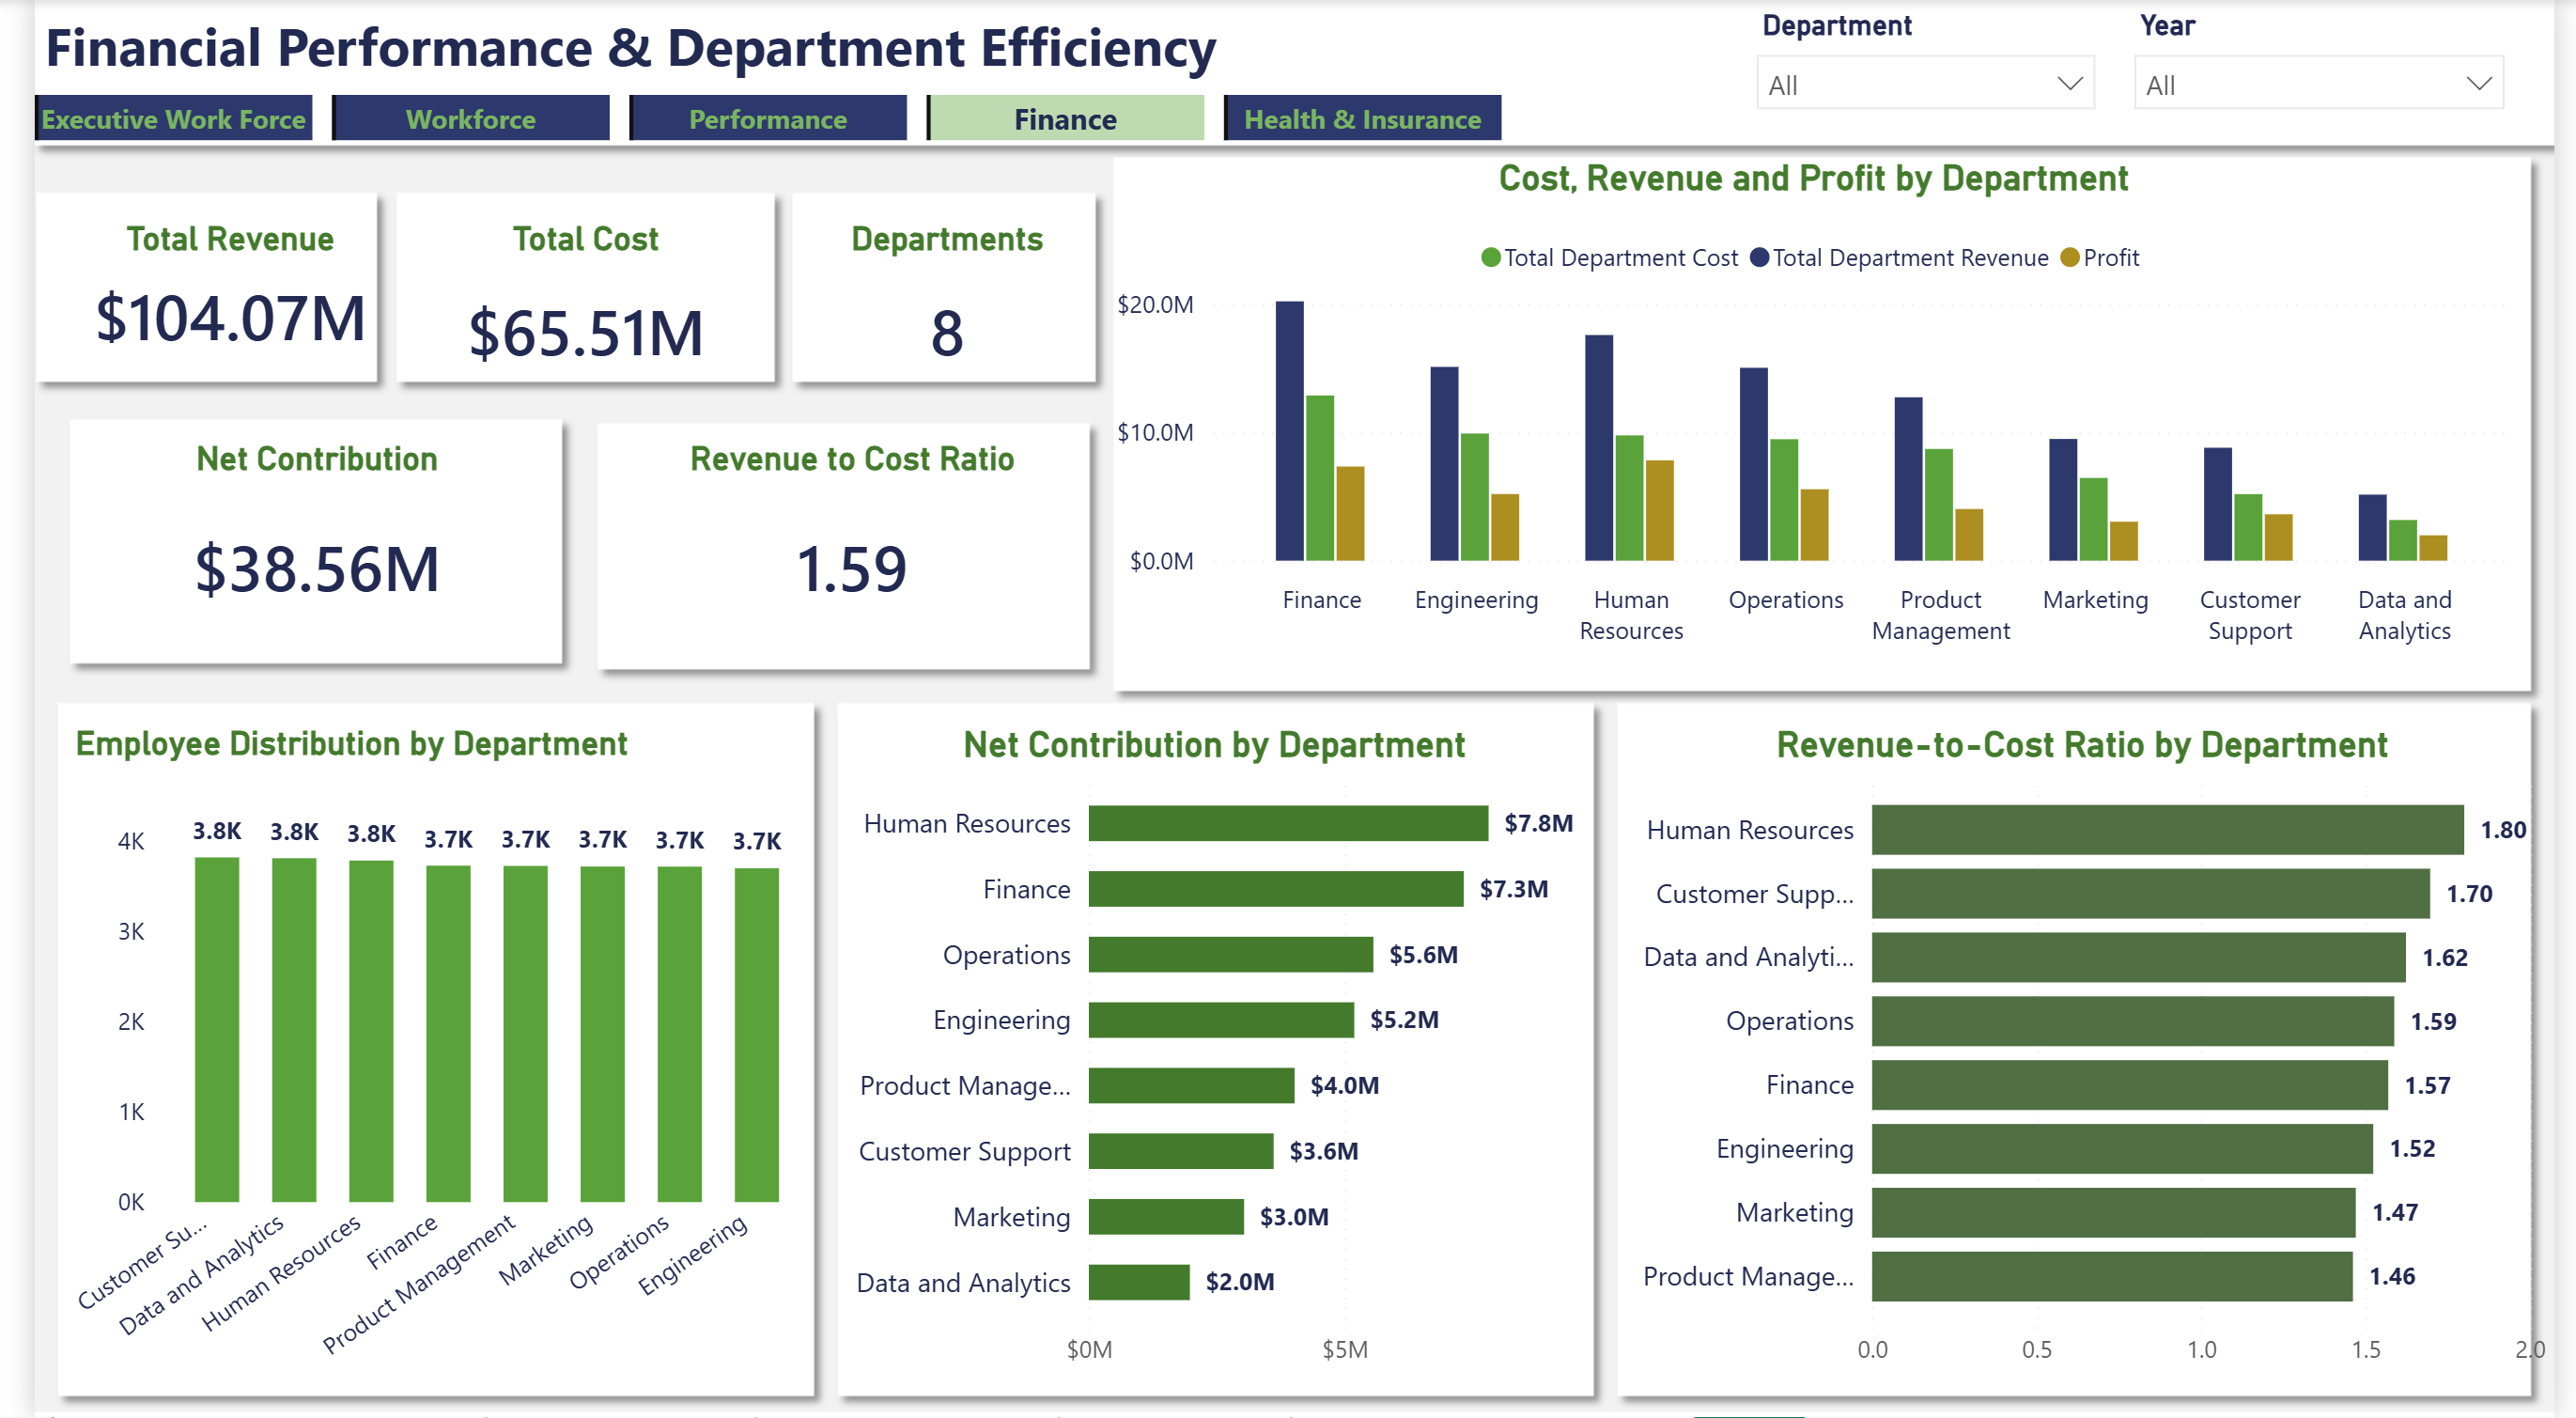

The page's visual inventory and layout, read from the dashboard file:
{"tool":"powerbi","page":{"name":"Finance","canvas":[1280,720],"ordinal":3},"visuals":[{"type":"cardVisual","title":"Total Revenue","fields":{"Data":["Sum(company_hr_db vw_department_performance_analysis.total_revenue_generated)"]},"box":[0,112,199,80],"z":0},{"type":"cardVisual","title":"Total Cost","fields":{"Data":["company_hr_db vw_department_performance_analysis.Total Department Cost"]},"box":[176,112,208,96],"z":1000},{"type":"cardVisual","title":"Net Contribution ","fields":{"Data":["company_hr_db vw_department_performance_analysis.Net Contribution"]},"box":[32,224,224,112],"z":2000},{"type":"cardVisual","title":"Revenue to Cost Ratio","fields":{"Data":["company_hr_db vw_department_performance_analysis.Revenue-to-Cost Ratio"]},"box":[304,224,224,112],"z":3000},{"type":"clusteredColumnChart","title":"Cost, Revenue and Profit by Department","fields":{"Category":["company_hr_db vw_department_performance_analysis.Department"],"Y":["company_hr_db vw_department_performance_analysis.Total Department Cost","company_hr_db vw_department_performance_analysis.Total Department Revenue","company_hr_db vw_department_performance_analysis.Profit"]},"box":[544,80,720,256],"z":4000},{"type":"clusteredBarChart","fields":{"Category":["company_hr_db vw_department_performance_analysis.department_name"],"Y":["company_hr_db vw_department_performance_analysis.Net Contribution"]},"box":[400,368,400,336],"z":5000},{"type":"clusteredBarChart","fields":{"Category":["company_hr_db vw_department_performance_analysis.department_name"],"Y":["company_hr_db vw_department_performance_analysis.Revenue-to-Cost Ratio"]},"box":[800,368,480,336],"z":6000},{"type":"clusteredColumnChart","title":"Employee Distribution by Department","fields":{"Category":["company_hr_db vw_employee_profile.Department"],"Y":["company_hr_db vw_employee_profile.Employee Count"]},"box":[16,368,384,336],"z":7000},{"type":"textbox","box":[0,0,640,48],"z":8000},{"type":"cardVisual","title":"Departments","fields":{"Data":["company_hr_db vw_department_performance_analysis.Department Count"]},"box":[384,112,160,96],"z":9000},{"type":"slicer","fields":{"Values":["company_hr_db vw_department_performance_analysis.department_name"]},"box":[864,0,192,64],"z":10000},{"type":"slicer","fields":{"Values":["company_hr_db vw_department_performance_analysis.year"]},"box":[1056,0,208,64],"z":11000},{"type":"pageNavigator","box":[0,48,748,23],"z":12000}]}

Visuals, with their boxes in screenshot pixels (x1, y1, x2, y2), scaled from the page's 1280x720 canvas onto the 2576x1418 screenshot:
"Total Revenue" cardVisual: (left=0, top=221, right=400, bottom=378)
"Total Cost" cardVisual: (left=354, top=221, right=773, bottom=410)
"Net Contribution " cardVisual: (left=65, top=441, right=515, bottom=662)
"Revenue to Cost Ratio" cardVisual: (left=612, top=441, right=1063, bottom=662)
"Cost, Revenue and Profit by Department" clusteredColumnChart: (left=1094, top=158, right=2544, bottom=662)
clusteredBarChart - company_hr_db vw_department_performance_analysis.department_name x company_hr_db vw_department_performance_analysis.Net Contribution: (left=805, top=725, right=1610, bottom=1386)
clusteredBarChart - company_hr_db vw_department_performance_analysis.department_name x company_hr_db vw_department_performance_analysis.Revenue-to-Cost Ratio: (left=1610, top=725, right=2575, bottom=1386)
"Employee Distribution by Department" clusteredColumnChart: (left=32, top=725, right=805, bottom=1386)
textbox: (left=0, top=0, right=1288, bottom=95)
"Departments" cardVisual: (left=773, top=221, right=1094, bottom=410)
slicer - company_hr_db vw_department_performance_analysis.department_name: (left=1739, top=0, right=2125, bottom=126)
slicer - company_hr_db vw_department_performance_analysis.year: (left=2125, top=0, right=2544, bottom=126)
pageNavigator: (left=0, top=95, right=1505, bottom=140)
